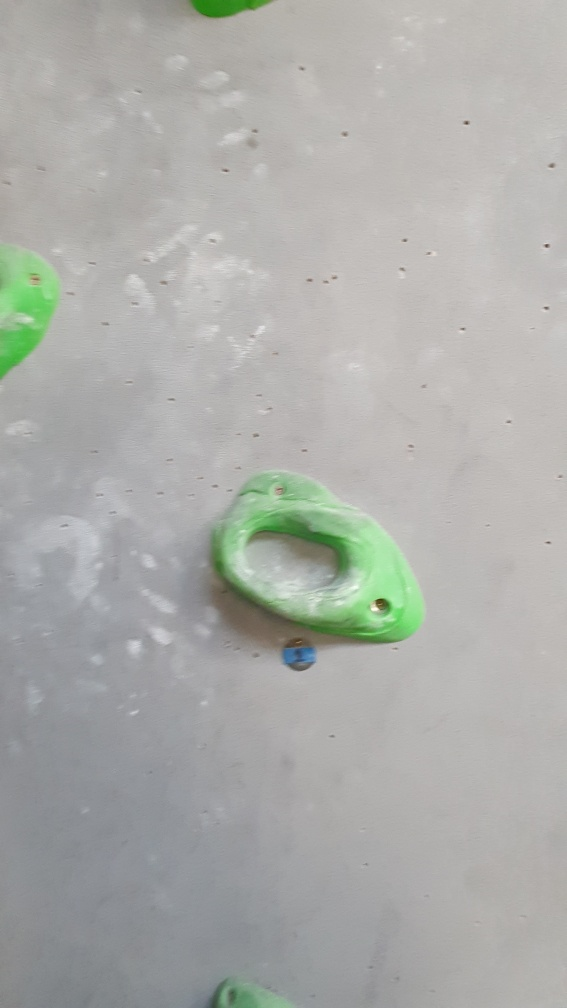Hand Start: (278, 633, 318, 677)
Pocket: (205, 463, 428, 647)
